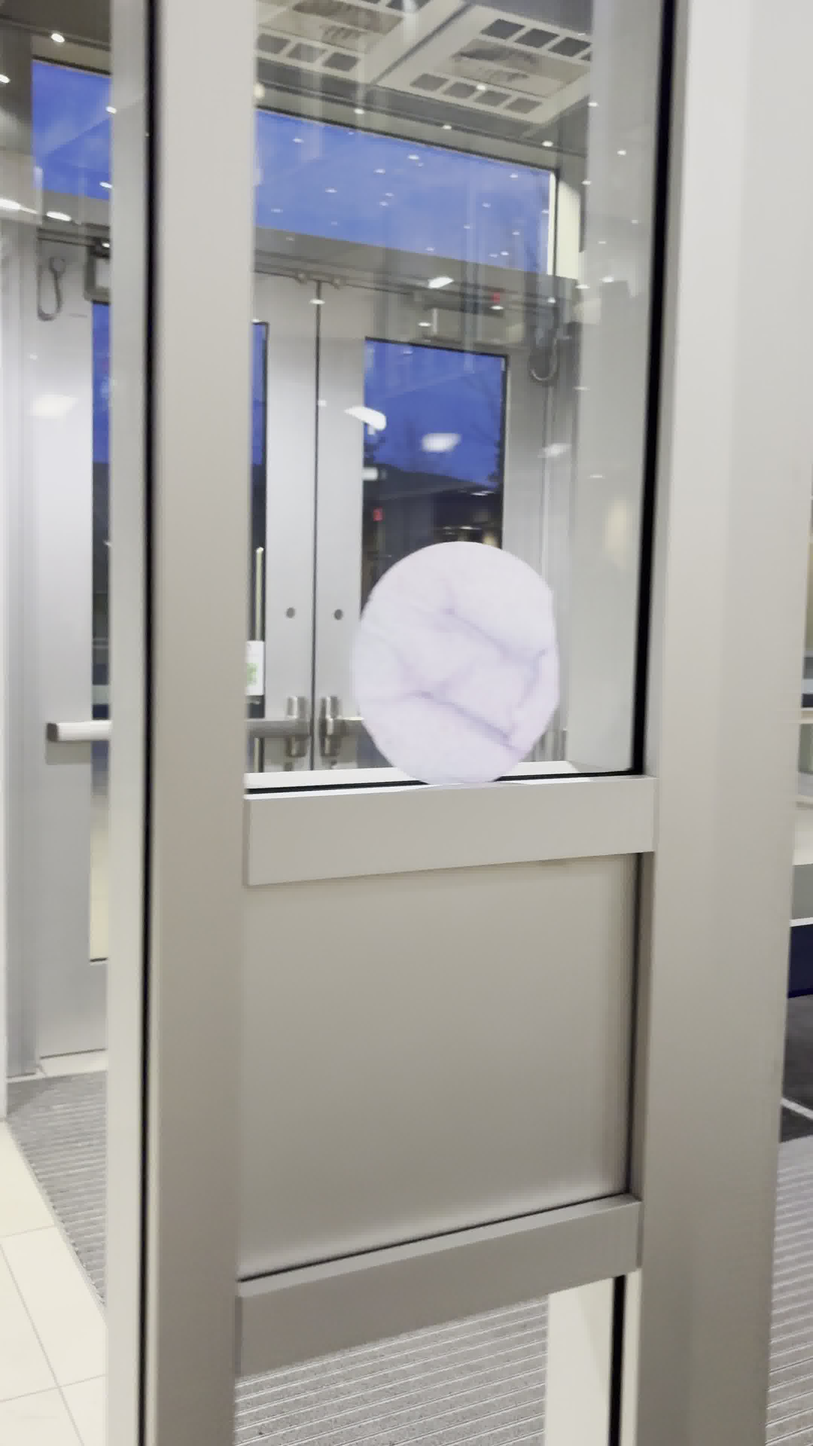Target: (352, 541, 559, 782)
